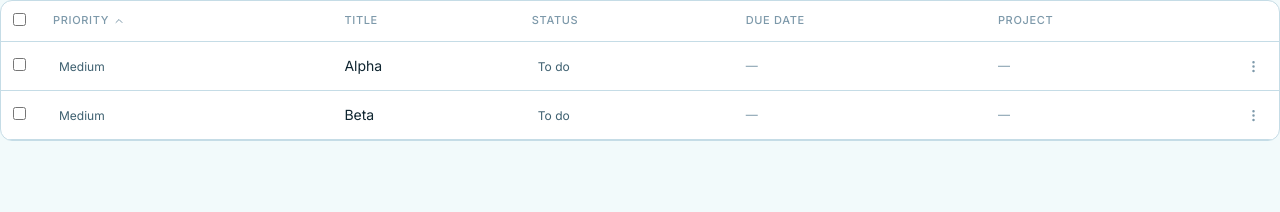
Test: ListView › select-all selects all rows
Click the checkbox named "Select all": (20, 20) [13,13,26,26]
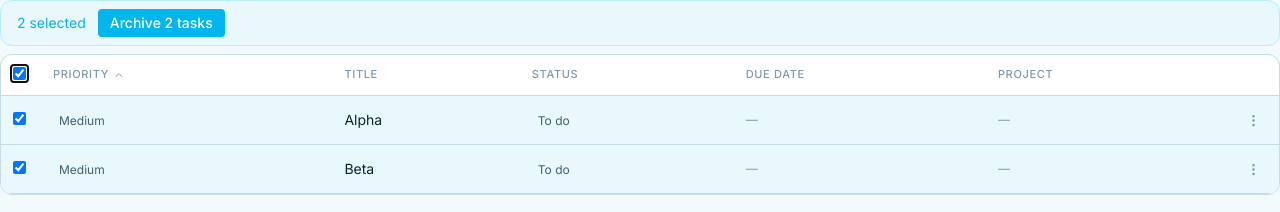
Result: the button "Archive 2 tasks" is shown at [98,9,225,37]
